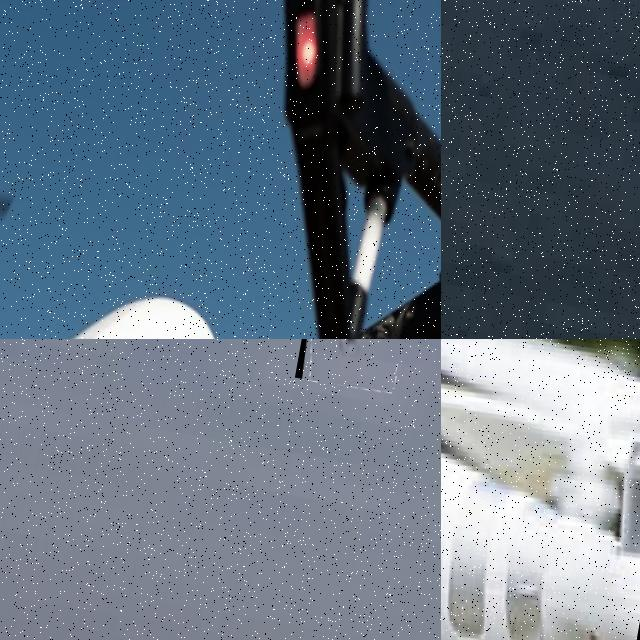drone: (0, 0, 441, 339), (441, 339, 640, 640), (294, 339, 414, 393)
